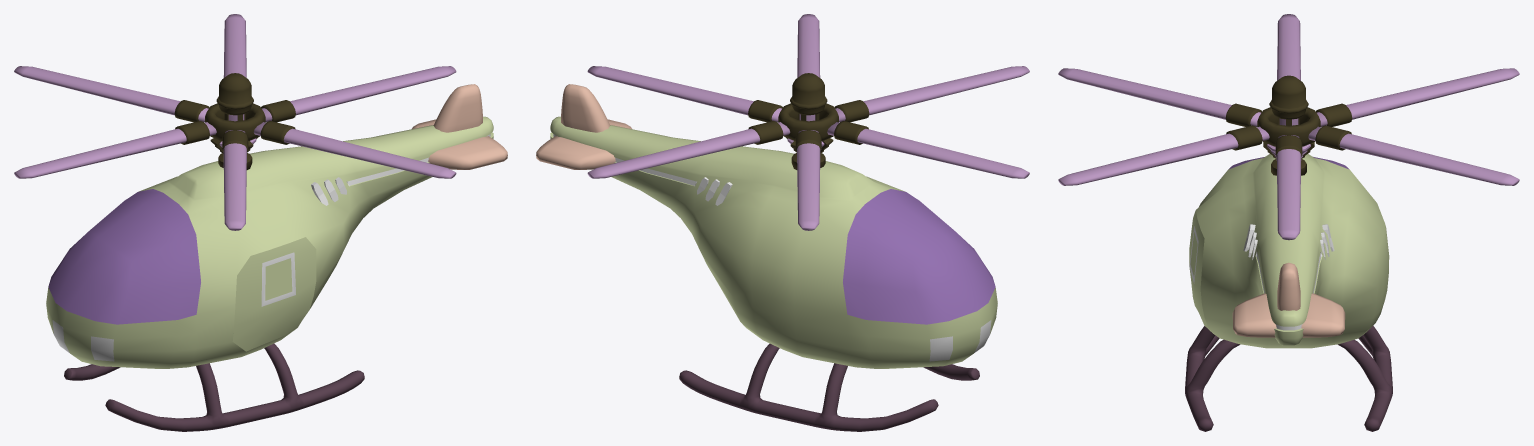
The model's file is helicopter.fbx.
3 renders of one model, left to right at view 1: azimuth 30°, elevation 25°; view 2: azimuth 150°, elevation 25°; view 3: azimuth 270°, elevation 25°, orthographic. The views are drawn at different scales.
Visible parts, largest first — view 1: helicopter, propeller, door; view 2: helicopter, propeller; view 3: helicopter, propeller, door.
Part boxes in pixels (x1=…): helicopter: x1=46, y1=73, x2=507, y2=431; propeller: x1=14, y1=14, x2=456, y2=230; door: x1=232, y1=237, x2=316, y2=351; helicopter: x1=536, y1=73, x2=997, y2=431; propeller: x1=587, y1=14, x2=1029, y2=230; helicopter: x1=1185, y1=75, x2=1392, y2=431; propeller: x1=1058, y1=14, x2=1519, y2=240; door: x1=1189, y1=210, x2=1208, y2=328.
Bounding box in the file's own units: 558 × 342 × 451.
